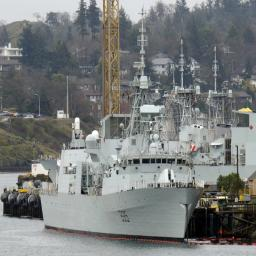Fragata: (38, 90, 207, 246)
